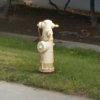Hydrant: (30, 11, 77, 77)
